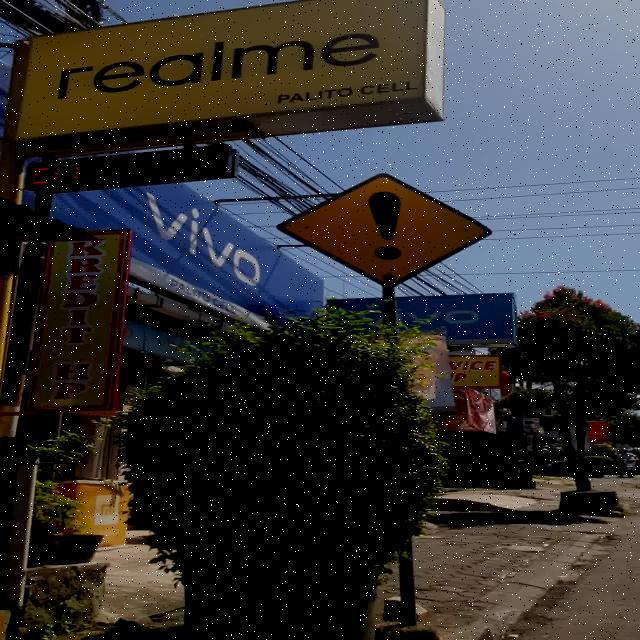Hati-Hati: (276, 172, 493, 288)
